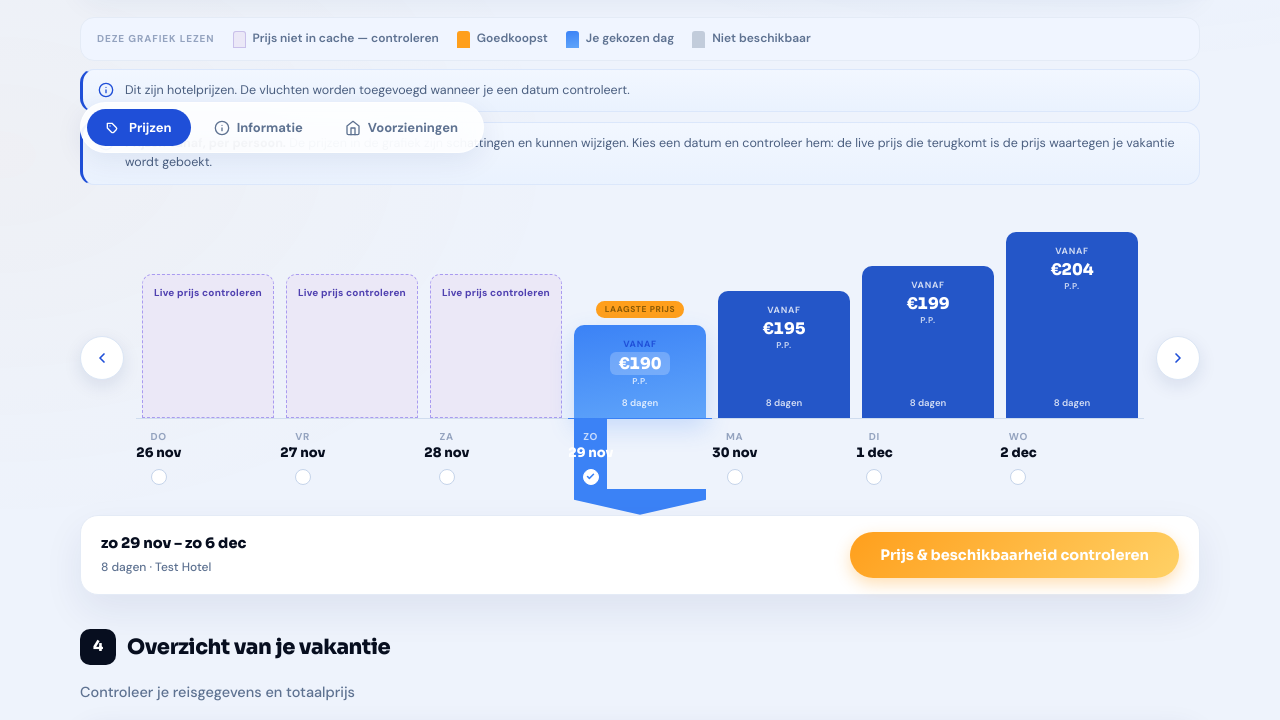
Test: the availability card spells the trip out › quotes the board of the rate it quotes the price of
The width and height of the screenshot is (1280, 720).
(page scrolled)
Click the button "Laagste prijs vanaf €190 p.p. 8 dagen zo 29 nov". click: (640, 361)
box: [568,207,712,515]
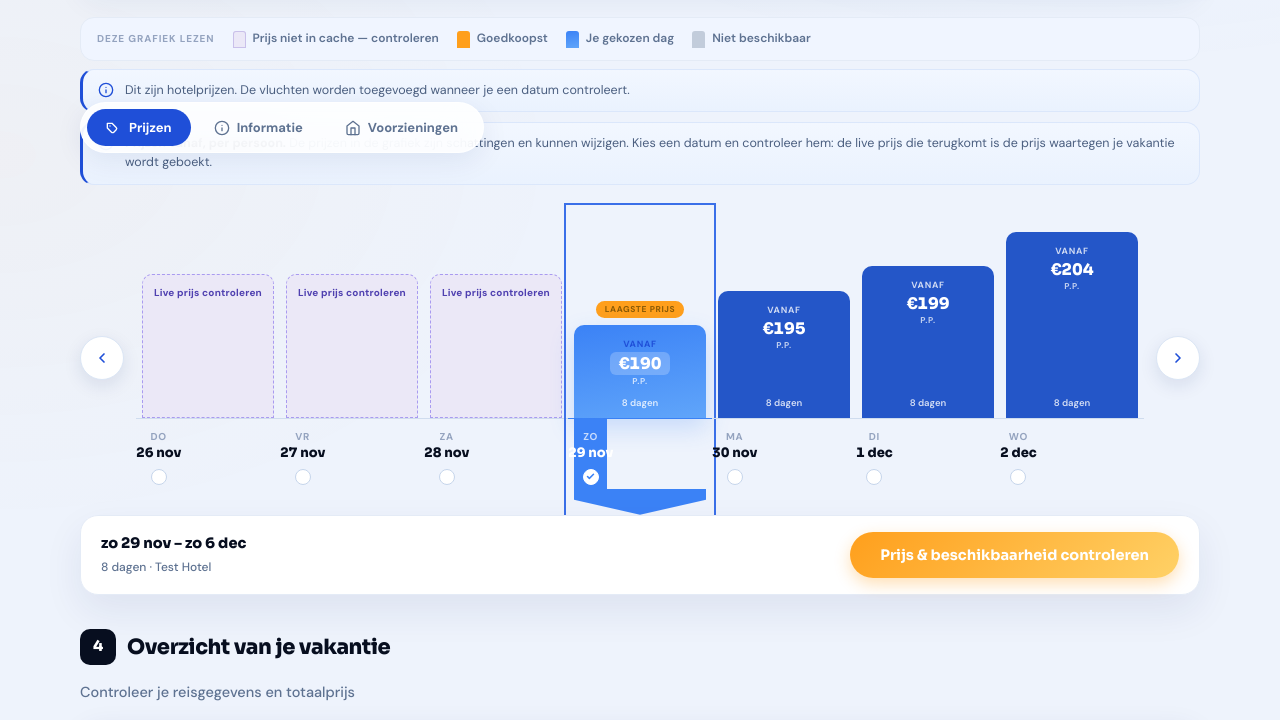
Click the button "Prijs & beschikbaarheid controleren". click: (1015, 555)
box: [850,532,1179,578]
(page scrolled)
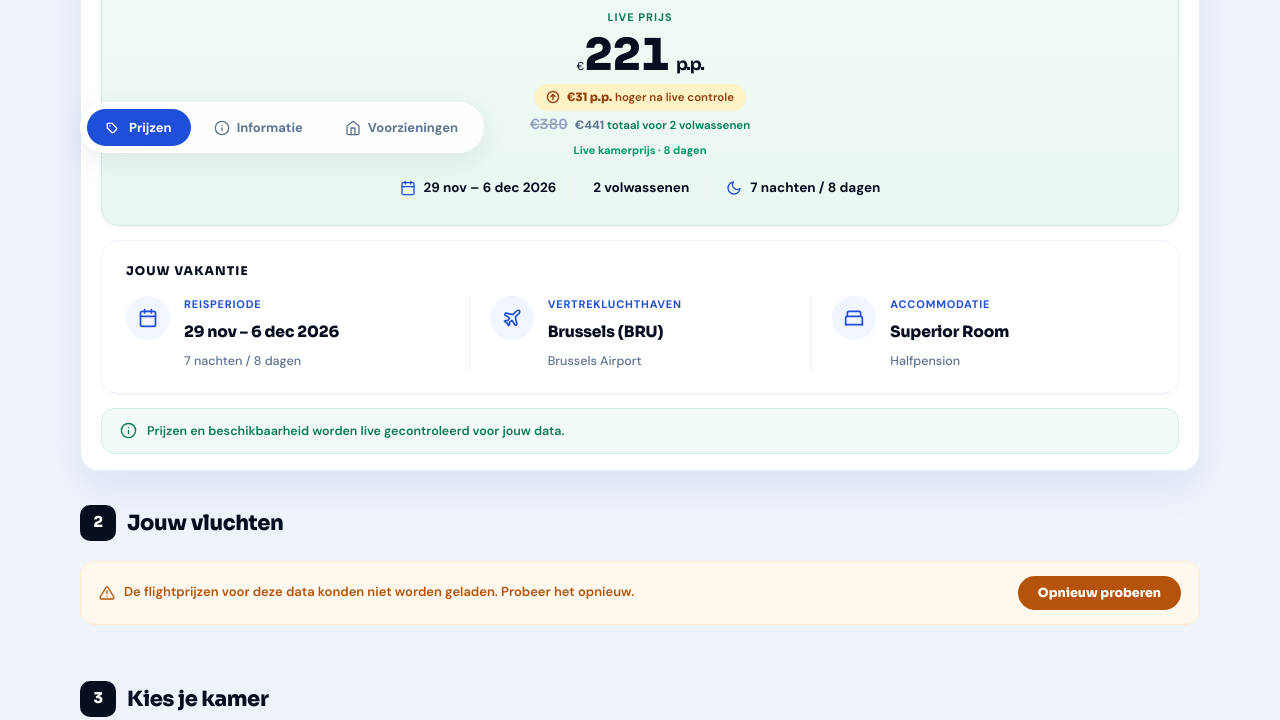
Check: the element with class "fc-facts" is shown, box [101,240,1179,394]
Check: the text "Halfpension" is shown, box [890,353,960,369]
